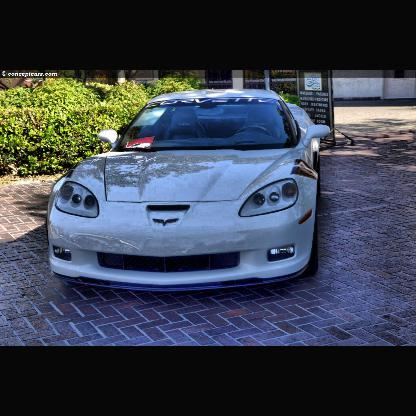Chevrolet Corvette Ron Fellows Edition Z06 2007: (48, 89, 331, 290)
